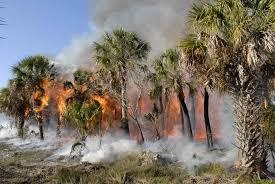fire: (22, 72, 77, 122)
